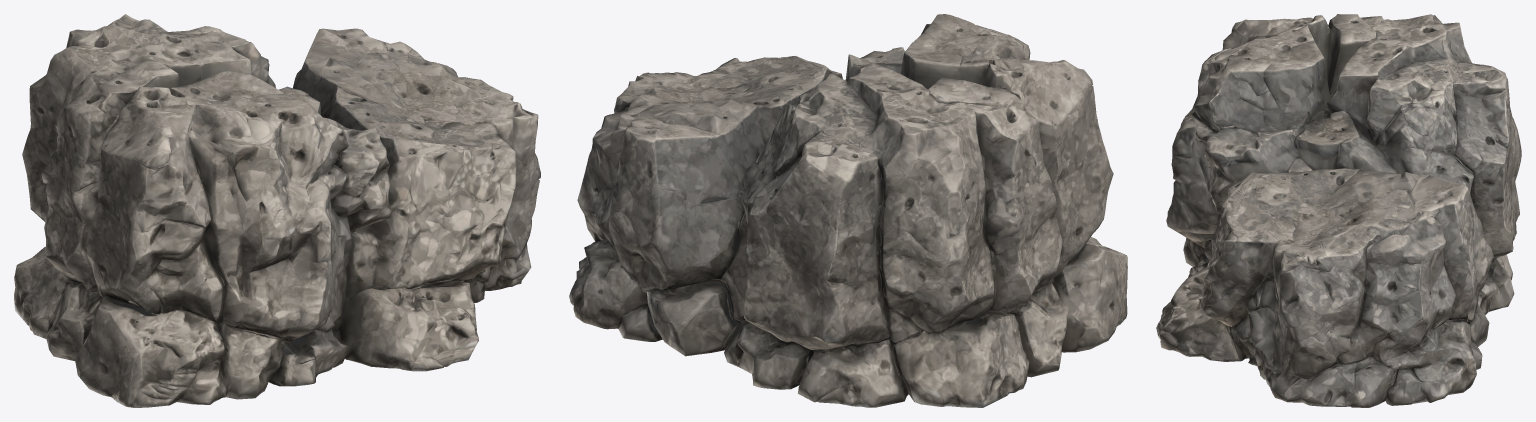
File: outcrop_a.glb
3 views of the same model, side by side, from view 1: azimuth 30°, elevation 25°; view 2: azimuth 150°, elevation 25°; view 3: azimuth 270°, elevation 25° (orthographic). The views are drawn at different scales.
Visible parts, largest first — view 1: outcrop_a; view 2: outcrop_a; view 3: outcrop_a.
Part boxes in pixels (x1,y1,x2,y2): outcrop_a: [14, 14, 540, 407]; outcrop_a: [569, 14, 1127, 407]; outcrop_a: [1156, 14, 1521, 407].
Size of the model in its own units: 19.01 by 10.33 by 14.77.
1 material, 1 textured.
